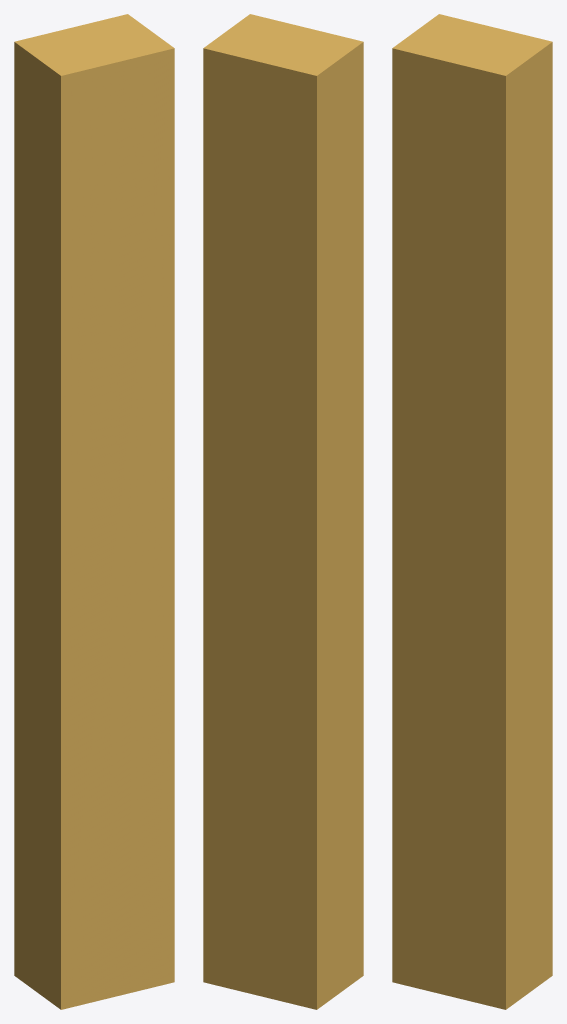
File: greatsword-steel.glb
The picture shows the model from 3 angles, left to right: view 1: azimuth 30°, elevation 25°; view 2: azimuth 150°, elevation 25°; view 3: azimuth 330°, elevation 25°; orthographic projection.
Parts seen in each view (by area): view 1: root; view 2: root; view 3: root.
Boxes of the visible parts, x1,y1,x2,y2 form: root: (14, 14, 174, 1009); root: (203, 14, 363, 1009); root: (392, 14, 552, 1009).
Size of the model in its own units: 0.21 by 1.65 by 0.15.
Materials: 1 (1 with a texture image).
